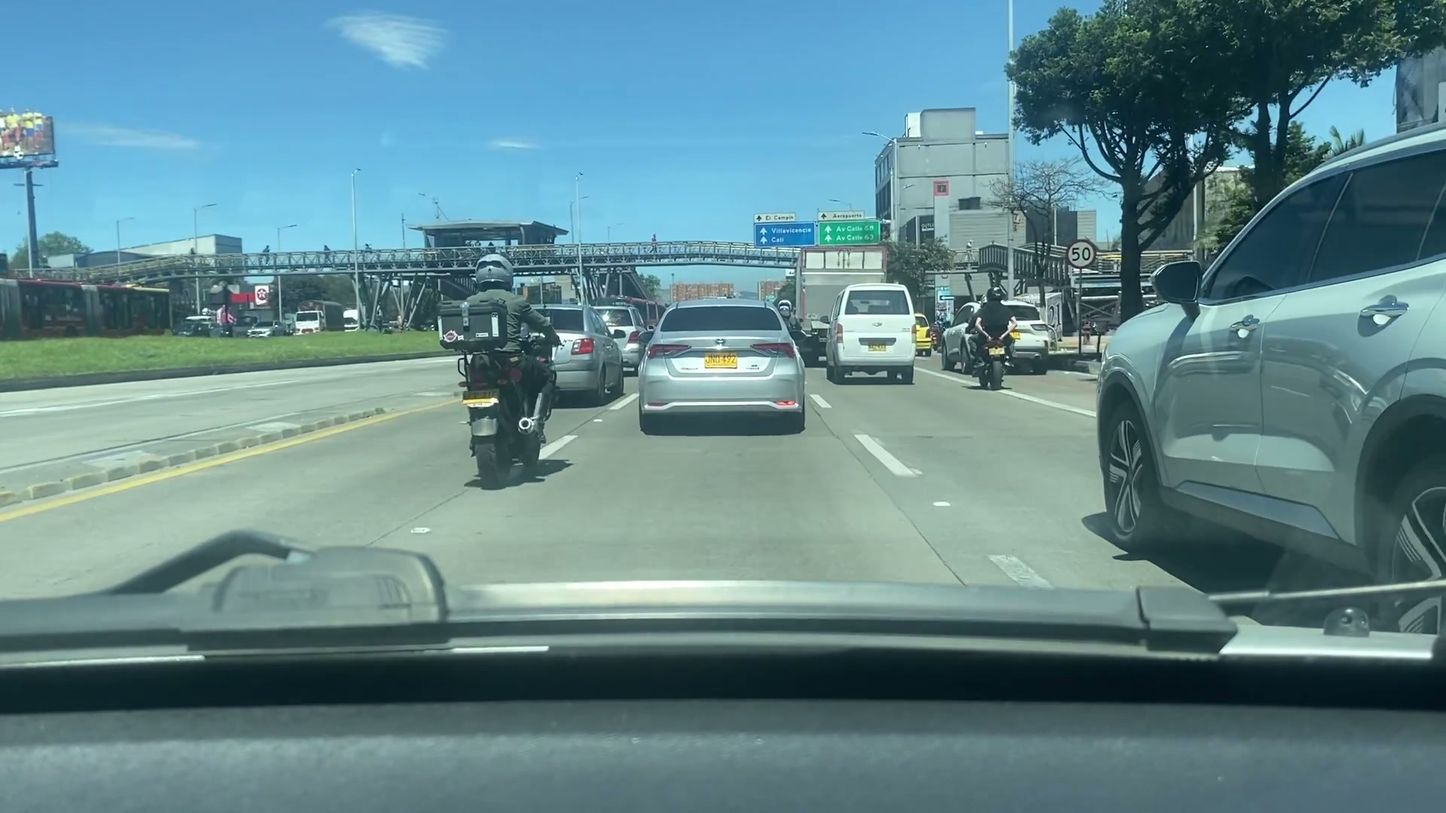bus: (827, 283, 916, 382)
car: (1094, 123, 1446, 608), (642, 301, 803, 436), (493, 303, 633, 397), (936, 298, 1055, 377), (585, 303, 651, 366), (911, 306, 932, 361)
motorcycle: (455, 362, 551, 485), (969, 337, 1011, 388)
person: (463, 249, 556, 442), (965, 288, 1017, 375)
truck: (797, 245, 898, 357)
